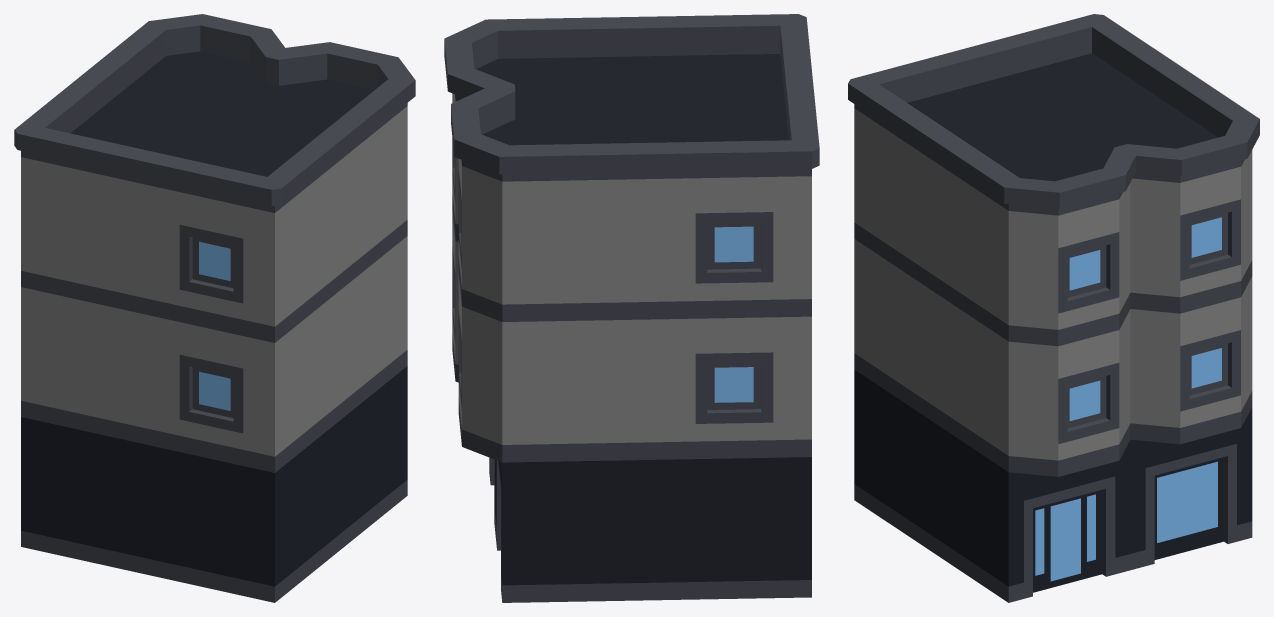
File: variant_42.obj
3 renders of one model, left to right at view 1: azimuth 30°, elevation 25°; view 2: azimuth 150°, elevation 25°; view 3: azimuth 270°, elevation 25°, orthographic. The views are drawn at different scales.
Visible parts, largest first — view 1: Building; view 2: Building; view 3: Building.
Boxes of the visible parts, x1,y1,x2,y2 form: Building: (14,14,415,602); Building: (444,14,819,602); Building: (848,14,1259,602).
Bounding box in the file's own units: 1.17 × 1.28 × 1.14.
